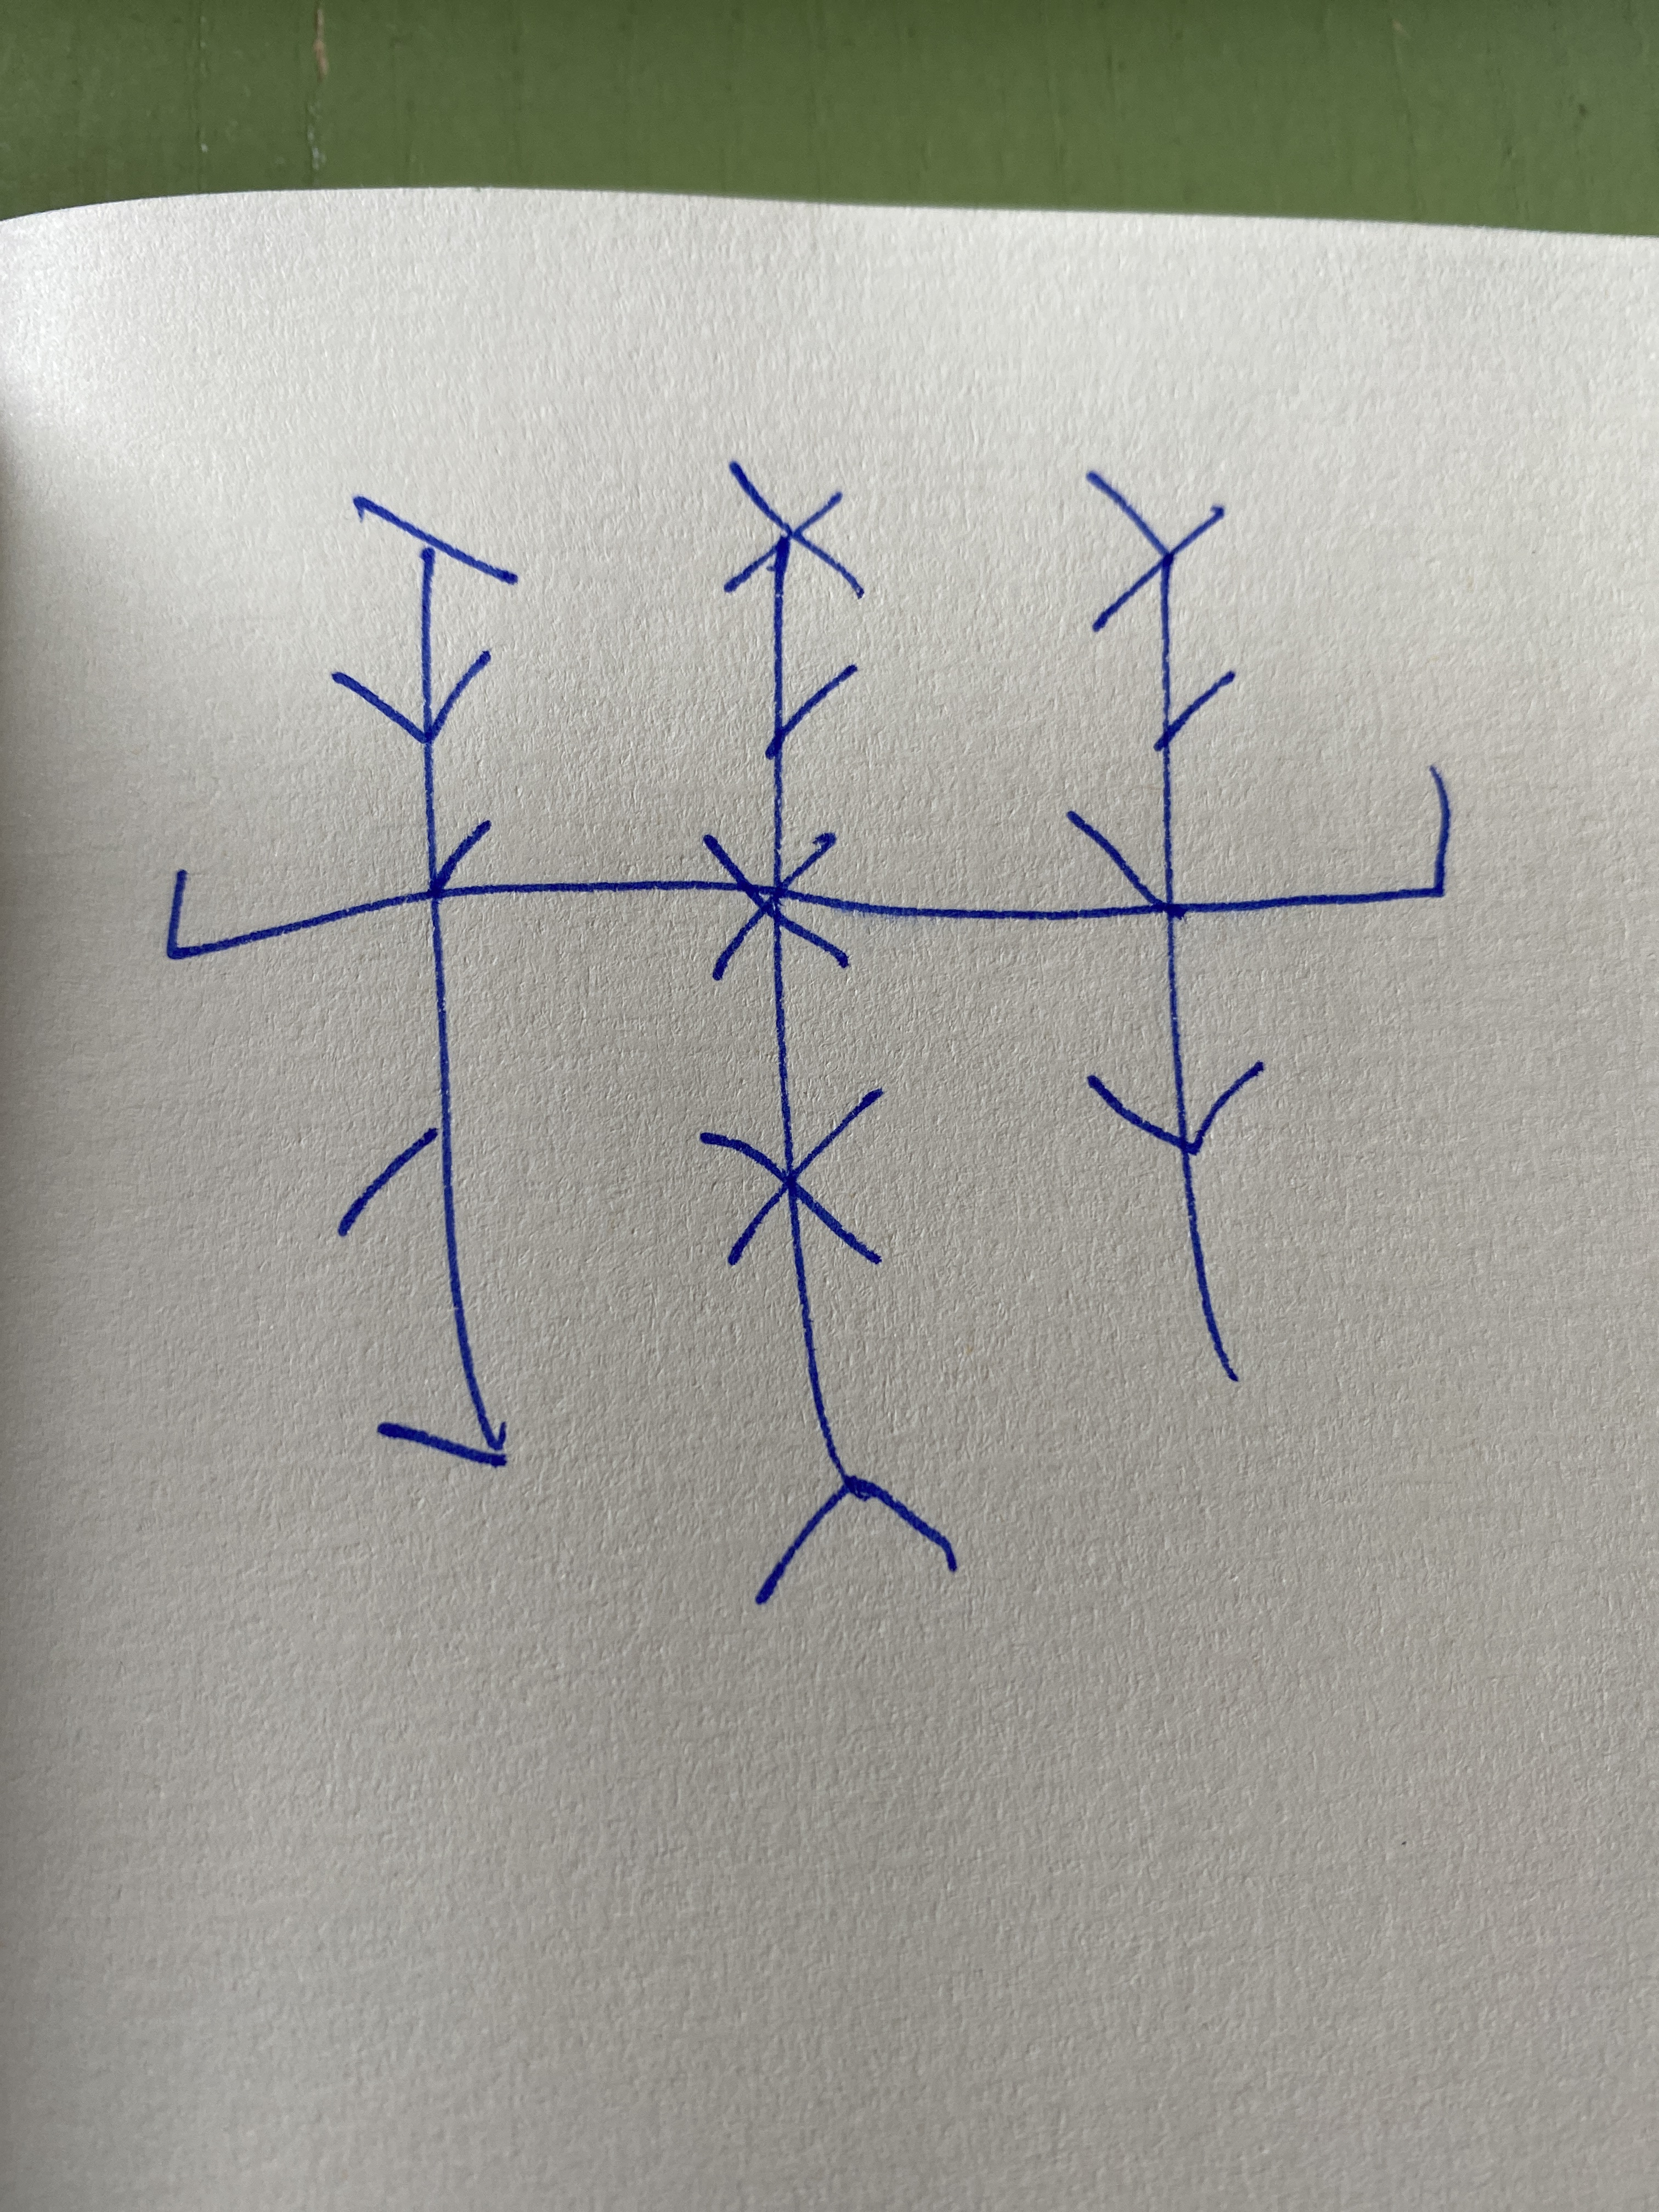Bar: (702, 458, 960, 1606), (1066, 467, 1270, 1400), (328, 486, 519, 1472)
Barcode: (164, 458, 1452, 1611)
End: (1180, 765, 1450, 914)
Start: (162, 846, 423, 963)
